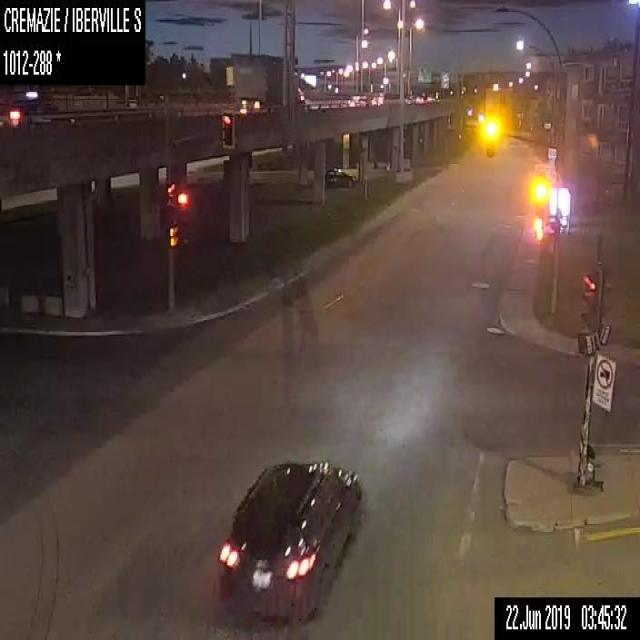vehicle: (217, 457, 361, 624), (230, 52, 305, 107), (0, 96, 62, 128), (325, 168, 354, 185), (346, 94, 359, 105), (372, 95, 384, 105), (355, 96, 368, 105), (404, 93, 414, 104), (414, 94, 424, 102), (426, 95, 432, 104)
